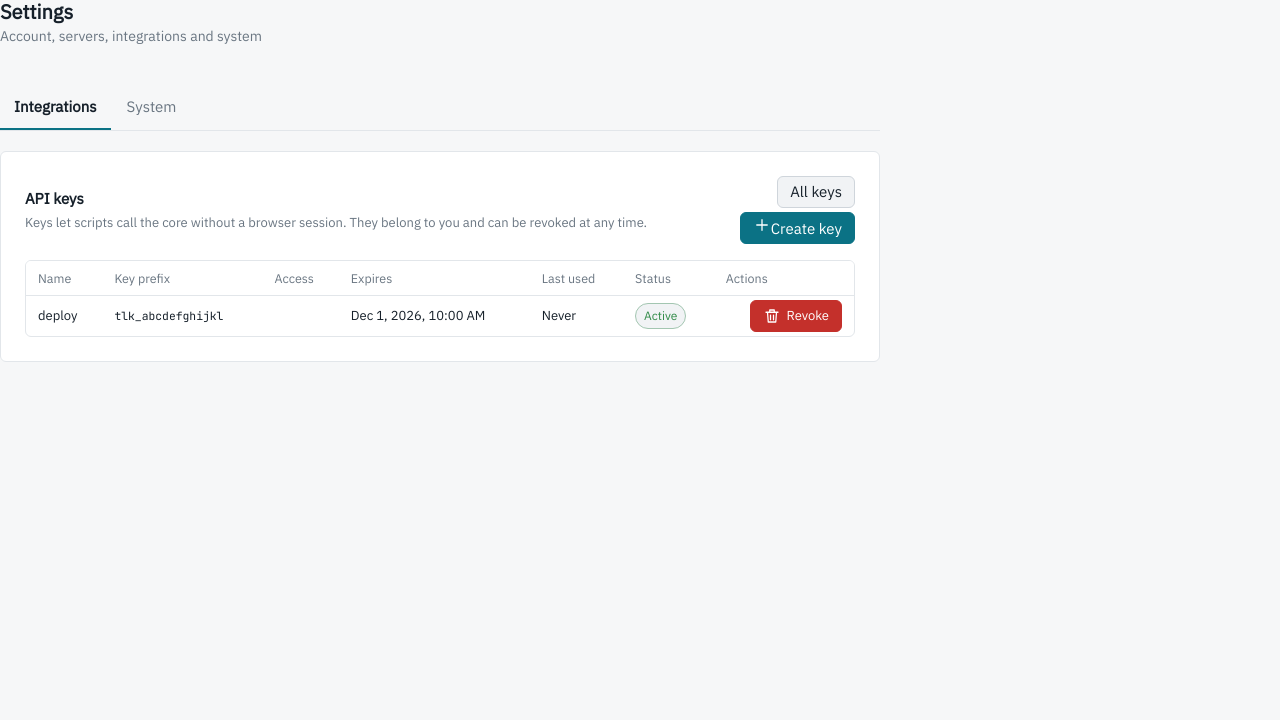
Settings API keys and single sign-on › lists API keys in the shared table and revokes one after confirmation
Expected: the text "deploy" is shown, [26,296,102,336]
Click the button "Revoke": (796, 316) [750,300,842,332]
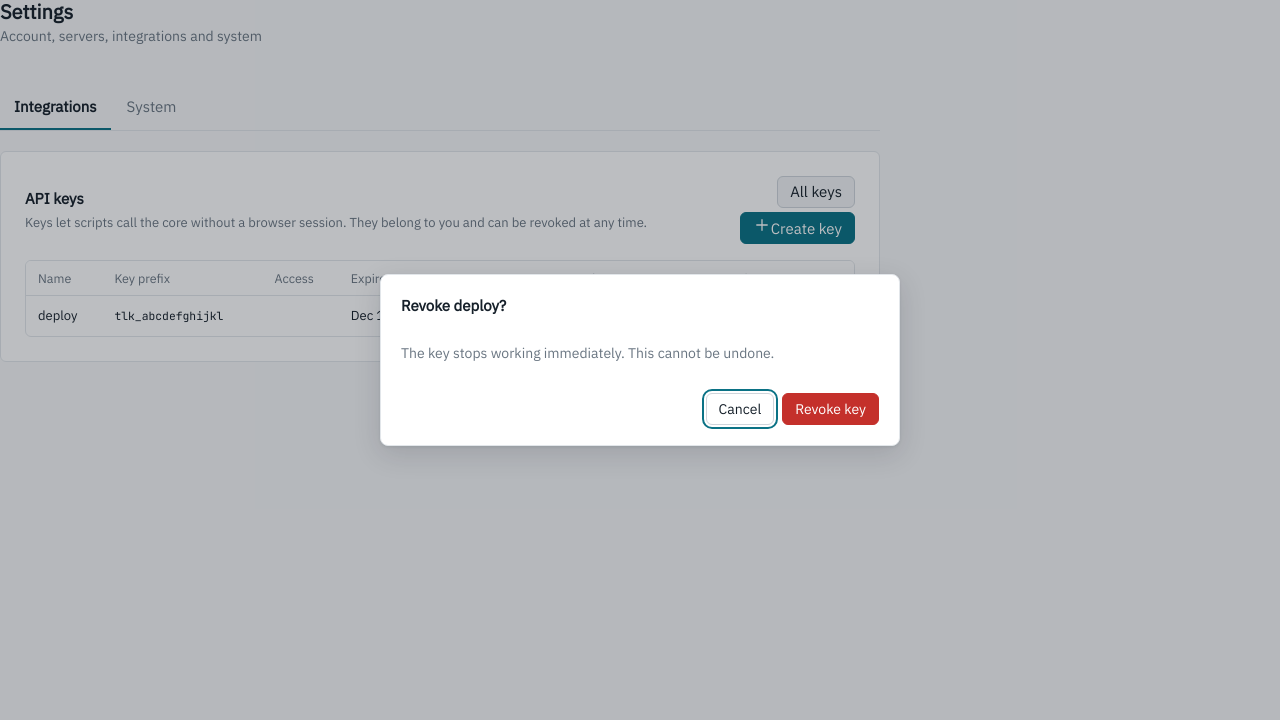
Now the heading "Revoke deploy?" is shown, box [401,296,506,315]
Click the button "Revoke key": (831, 409) [782,393,879,425]
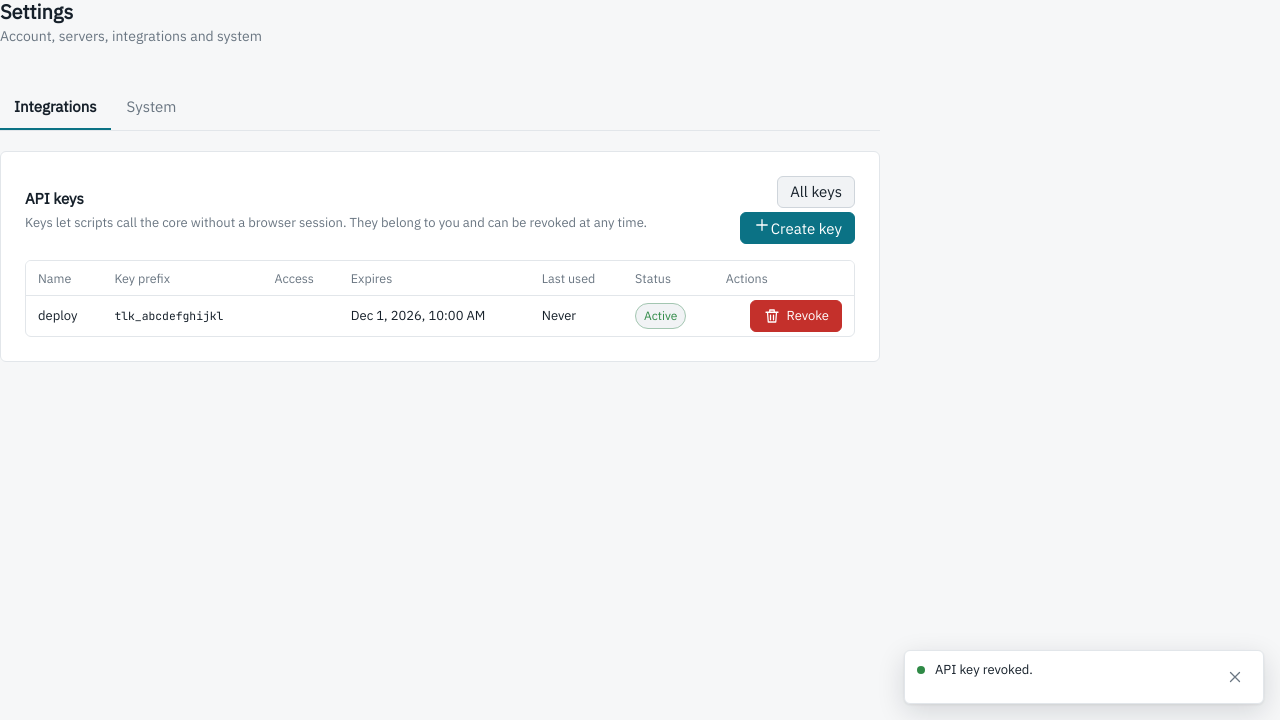
Now the text "API key revoked." is shown, box [935,661,1033,678]
